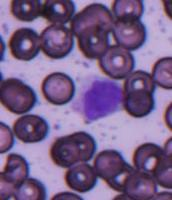L: (72, 74, 124, 123)
